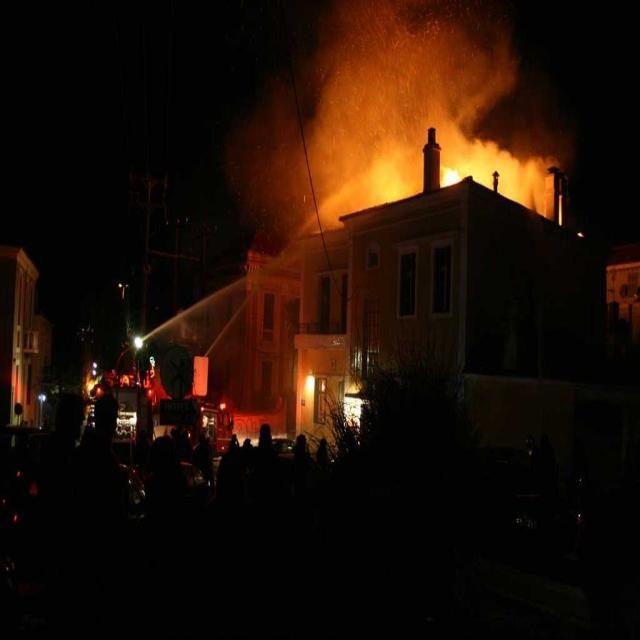Fire: (441, 148, 544, 204)
Smoke: (296, 56, 413, 202)
